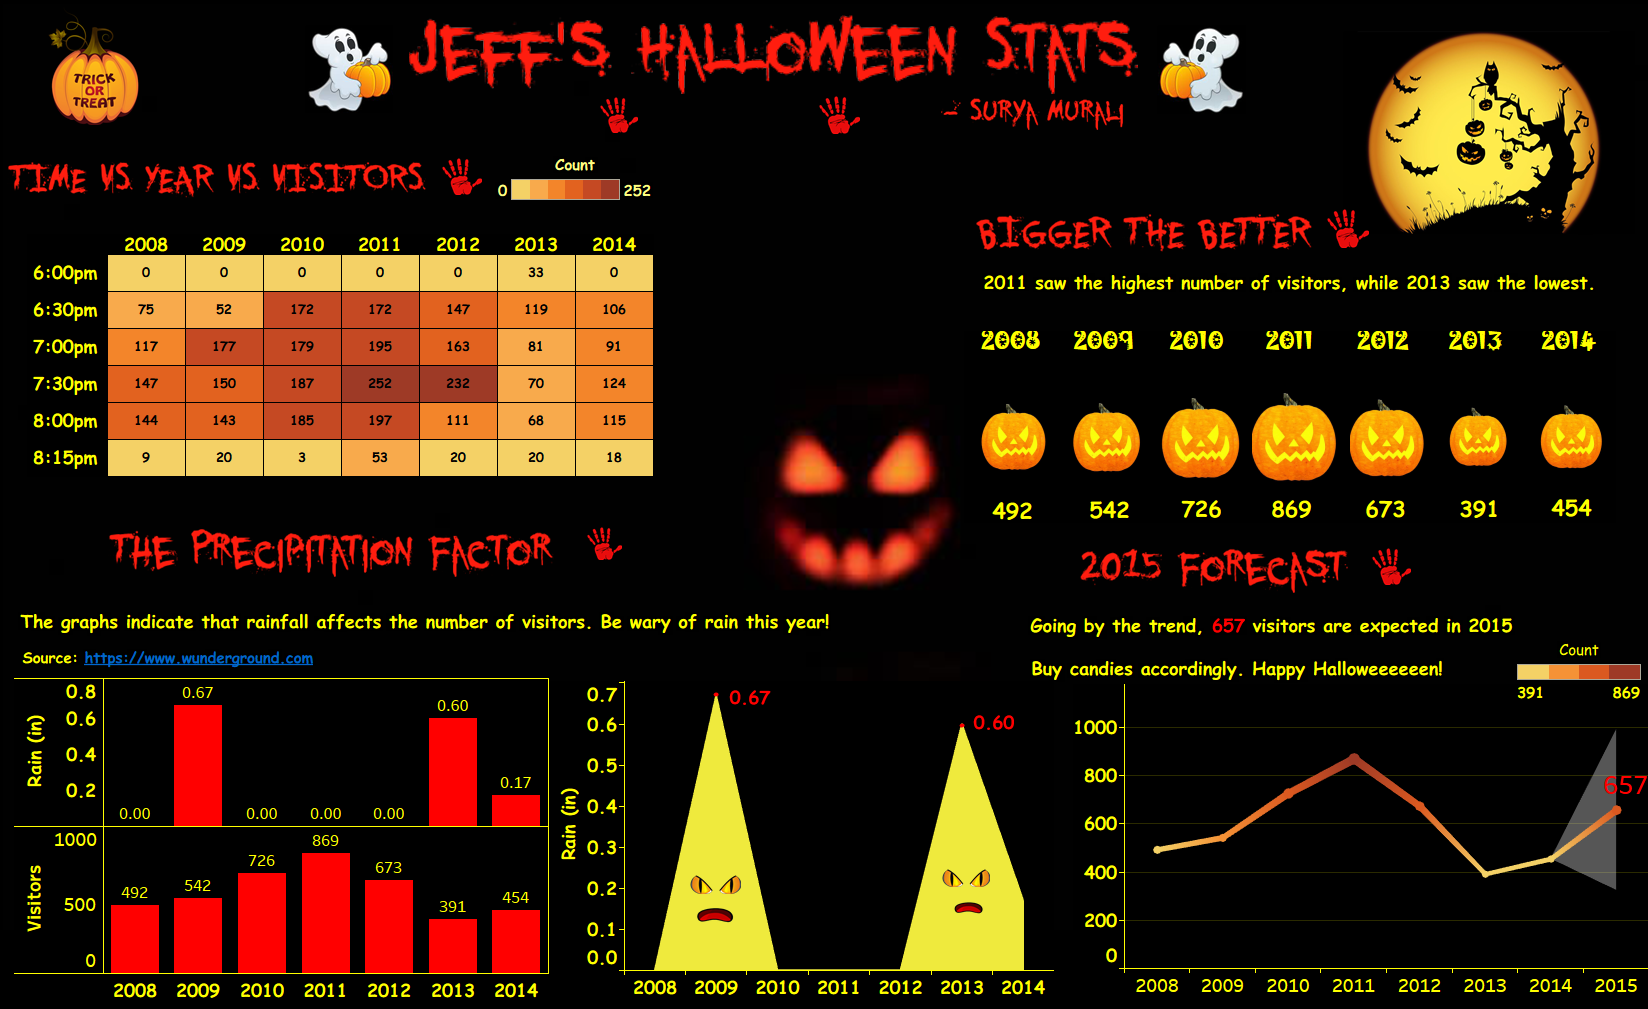

This screenshot's page, from the dashboard's own definition file:
{"tool":"tableau","page":{"name":"Trick Or Treat","canvas":[1669,1027],"ordinal":0},"visuals":[{"type":"image","param":"Image/2.jpg","box":[8,8,1653,1011]},{"type":"image","param":"Image/Trunk-or-treat-transparent-trick-or-treat-pumpkin-clipart.png","box":[49,9,108,128]},{"type":"image","param":"Image/jeff.png","box":[414,19,820,87]},{"type":"image","param":"Image/download.jpg","box":[310,29,108,96]},{"type":"image","param":"Image/IMG_20171026_144845.jpg","box":[1162,29,126,97]},{"type":"image","param":"Image/red-hand-print-hi.png","box":[824,100,49,49]},{"type":"image","param":"Image/red-hand-print-hi.png","box":[605,101,46,54]},{"type":"image","param":"Image/youmurderer-bb.regular (2).png","box":[921,102,243,40]},{"type":"legend","title":"Year Vs Time - Heatmap","param":"[federated.12tvo5p0xh3g5p10nyre80b0nelf].[sum:Count:qk]","box":[499,157,170,65]},{"type":"image","param":"Image/red-hand-print-hi.png","box":[447,162,48,50]},{"type":"image","param":"Image/youmurderer-bb.regular (4).png","box":[12,166,427,51]},{"type":"image","param":"Image/red-hand-print-hi.png","box":[1332,213,50,56]},{"type":"image","param":"Image/youmurderer-bb.regular (5).png","box":[981,218,407,46]},{"type":"worksheet","title":"Year Vs Time - Heatmap","mark":"Square","rows":["Time"],"cols":["Date and Time"],"box":[32,238,644,294]},{"type":"text","box":[985,260,628,60]},{"type":"worksheet","title":"Bigger the Better","mark":"Shape","cols":["Date and Time"],"box":[969,335,687,207]},{"type":"text","box":[1553,480,108,70]},{"type":"text","box":[1183,481,108,70]},{"type":"text","box":[1273,481,108,70]},{"type":"text","box":[1367,481,108,70]},{"type":"text","box":[1461,481,108,70]},{"type":"text","box":[1091,482,108,70]},{"type":"text","box":[994,483,108,70]},{"type":"image","param":"Image/red-hand-print-hi.png","box":[592,531,43,55]},{"type":"image","param":"Image/youmurderer-bb.regular (1).png","box":[113,533,521,56]},{"type":"image","param":"Image/youmurderer-bb.regular (3).png","box":[1085,552,317,53]},{"type":"image","param":"Image/red-hand-print-hi.png","box":[1377,552,61,45]},{"type":"text","box":[1032,603,497,60]},{"type":"text","box":[22,604,863,50]},{"type":"text","box":[24,640,306,50]},{"type":"legend","title":"2015 Forecast","param":"[federated.12tvo5p0xh3g5p10nyre80b0nelf].[fVal:sum:Count:qk]","box":[1518,642,140,88]},{"type":"text","box":[1033,646,426,60]},{"type":"text","box":[731,670,108,70]},{"type":"text","box":[711,671,81,39]},{"type":"worksheet","title":"Rain & Count","mark":"Bar","rows":["Precipitation (in)","Count"],"cols":["Date and Time"],"box":[19,682,543,334]},{"type":"worksheet","title":"Rain Area - Graph","mark":"Area","rows":["Precipitation (in)"],"cols":["Date and Time"],"box":[553,685,514,327]},{"type":"worksheet","title":"2015 Forecast","mark":"Line","rows":["Count"],"cols":["Date and Time"],"box":[1078,688,584,326]},{"type":"text","box":[975,695,108,70]},{"type":"text","box":[957,697,108,50]},{"type":"image","param":"Image/Sad-Mouth-Animation.gif","box":[832,833,290,187]},{"type":"image","param":"Image/6cdb544f25bb00f6d45a4da8183da1a3_halloween-eyes-cliparts-free-download-cli","box":[947,873,56,50]},{"type":"image","param":"Image/6cdb544f25bb00f6d45a4da8183da1a3_halloween-eyes-cliparts-free-download-cli","box":[695,879,59,44]}]}

Visuals, with their boxes in screenshot pixels (x1, y1, x2, y2), scaled from the page's 1669x1027 canvas onto the 1648x1009 screenshot:
image: (left=8, top=8, right=1640, bottom=1001)
image: (left=48, top=9, right=155, bottom=135)
image: (left=409, top=19, right=1218, bottom=104)
image: (left=306, top=28, right=413, bottom=123)
image: (left=1147, top=28, right=1272, bottom=124)
image: (left=814, top=98, right=862, bottom=146)
image: (left=597, top=99, right=643, bottom=152)
image: (left=909, top=100, right=1149, bottom=140)
"Year Vs Time - Heatmap" legend: (left=493, top=154, right=661, bottom=218)
image: (left=441, top=159, right=489, bottom=208)
image: (left=12, top=163, right=433, bottom=213)
image: (left=1315, top=209, right=1365, bottom=264)
image: (left=969, top=214, right=1371, bottom=259)
"Year Vs Time - Heatmap" worksheet (Square marks): (left=32, top=234, right=667, bottom=523)
text: (left=973, top=255, right=1593, bottom=314)
"Bigger the Better" worksheet (Shape marks): (left=957, top=329, right=1635, bottom=533)
text: (left=1533, top=472, right=1640, bottom=540)
text: (left=1168, top=473, right=1275, bottom=541)
text: (left=1257, top=473, right=1364, bottom=541)
text: (left=1350, top=473, right=1456, bottom=541)
text: (left=1443, top=473, right=1549, bottom=541)
text: (left=1077, top=474, right=1184, bottom=542)
text: (left=981, top=475, right=1088, bottom=543)
image: (left=585, top=522, right=627, bottom=576)
image: (left=112, top=524, right=626, bottom=579)
image: (left=1071, top=542, right=1384, bottom=594)
image: (left=1360, top=542, right=1420, bottom=587)
text: (left=1019, top=592, right=1510, bottom=651)
text: (left=22, top=593, right=874, bottom=643)
text: (left=24, top=629, right=326, bottom=678)
"2015 Forecast" legend: (left=1499, top=631, right=1637, bottom=717)
text: (left=1020, top=635, right=1441, bottom=694)
text: (left=722, top=658, right=828, bottom=727)
text: (left=702, top=659, right=782, bottom=698)
"Rain & Count" worksheet (Bar marks): (left=19, top=670, right=555, bottom=998)
"Rain Area - Graph" worksheet (Area marks): (left=546, top=673, right=1054, bottom=994)
"2015 Forecast" worksheet (Line marks): (left=1064, top=676, right=1641, bottom=996)
text: (left=963, top=683, right=1069, bottom=752)
text: (left=945, top=685, right=1052, bottom=734)
image: (left=822, top=818, right=1108, bottom=1002)
image: (left=935, top=858, right=990, bottom=907)
image: (left=686, top=864, right=745, bottom=907)
